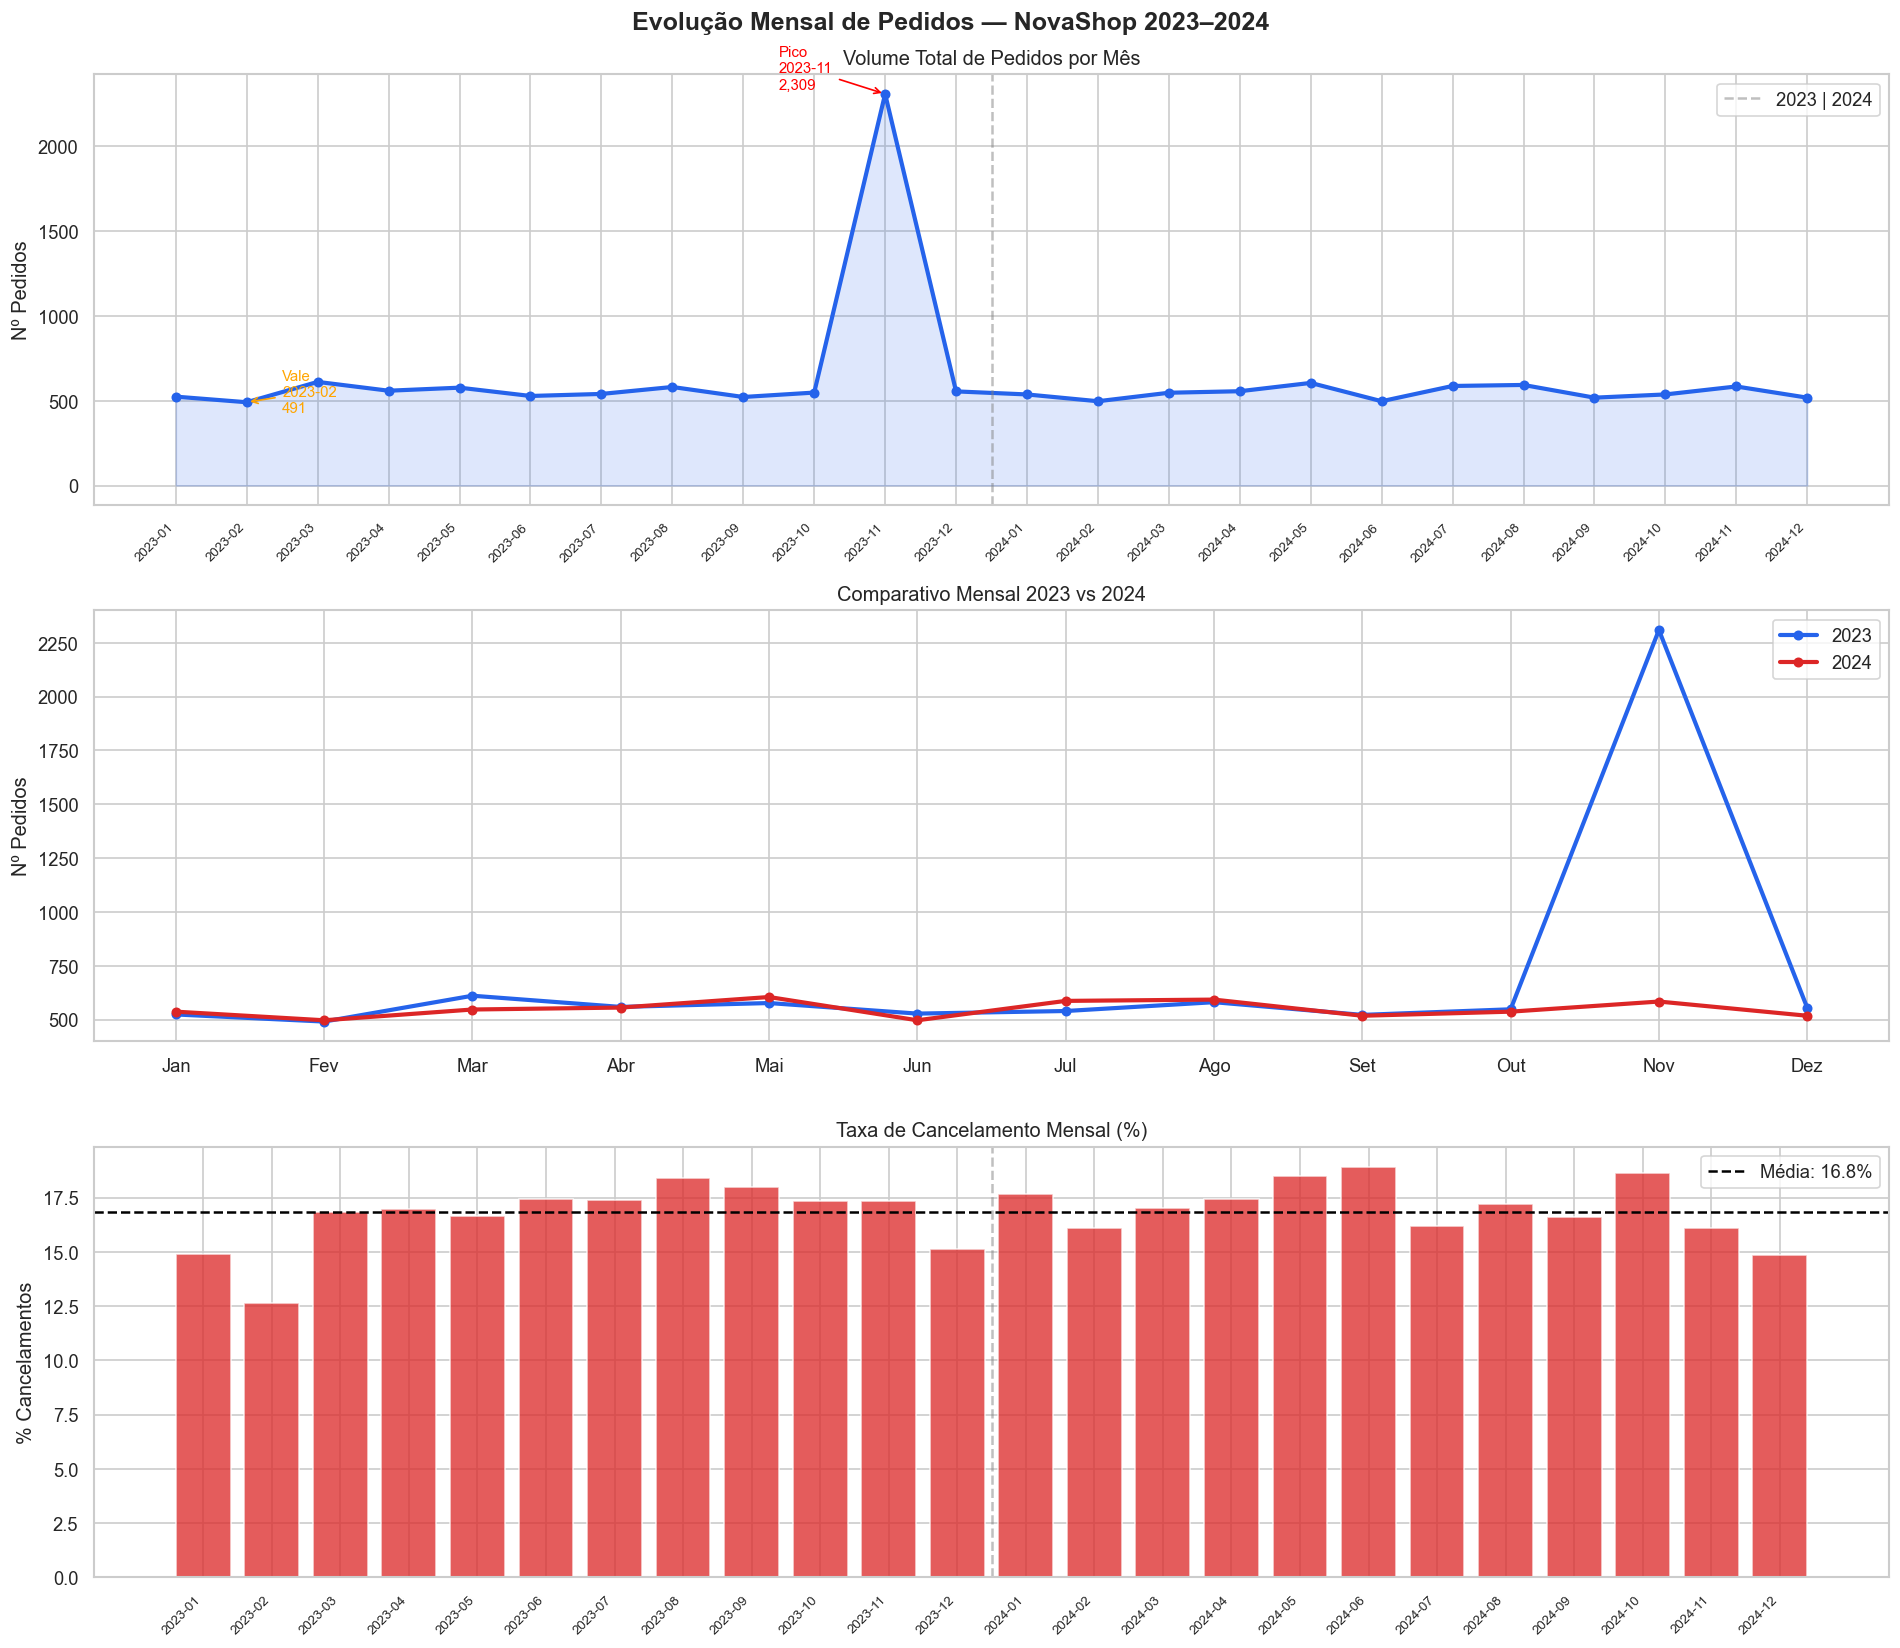

The page's visual inventory and layout, read from the dashboard file:
{"tool":"powerbi","page":{"name":"Pergunta 4 - Evolução Mensal e Sazonalidade","canvas":[1280,720],"ordinal":3},"visuals":[{"type":"lineChart","title":"Total de Pedidos por Ano","fields":{"Category":["d_calendario.Nome_Mes"],"Series":["d_calendario.Ano"],"Y":["Medidas.Total Pedidos"]},"box":[0,0,1280,326.4],"z":0},{"type":"clusteredColumnChart","title":"Pedidos Cancelados oor Ano","fields":{"Category":["d_calendario.Nome_Mes"],"Series":["d_calendario.Ano"],"Y":["Medidas.Pedidos Cancelados"]},"box":[0,326.4,1280,393.6],"z":1000}]}

Visuals, with their boxes on the page's 1280x720 design canvas (x1, y1, x2, y2). These are canvas units, not pixel positions in the 1900x1648 screenshot, which may show the page scaled, cropped or inside an application window:
"Total de Pedidos por Ano" lineChart: region(0, 0, 1280, 326)
"Pedidos Cancelados oor Ano" clusteredColumnChart: region(0, 326, 1280, 720)
